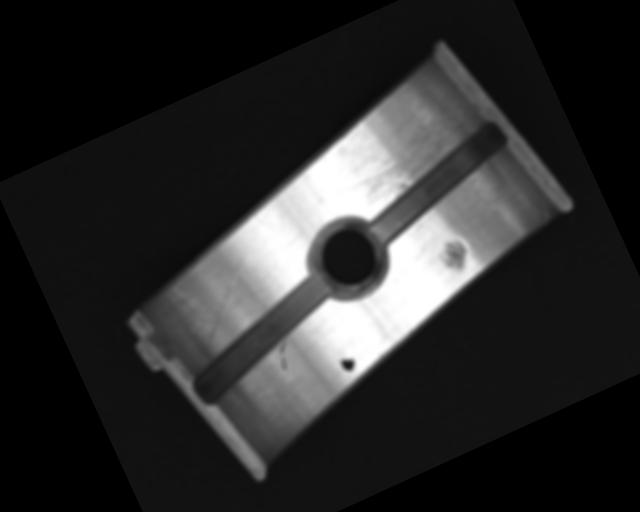blot: (336, 349, 358, 374)
bruise: (433, 234, 473, 277)
gap: (173, 272, 352, 408), (347, 119, 526, 249)
hole: (300, 207, 397, 307)
nick: (178, 255, 270, 346), (271, 338, 298, 373)
scratch: (310, 78, 500, 223)
